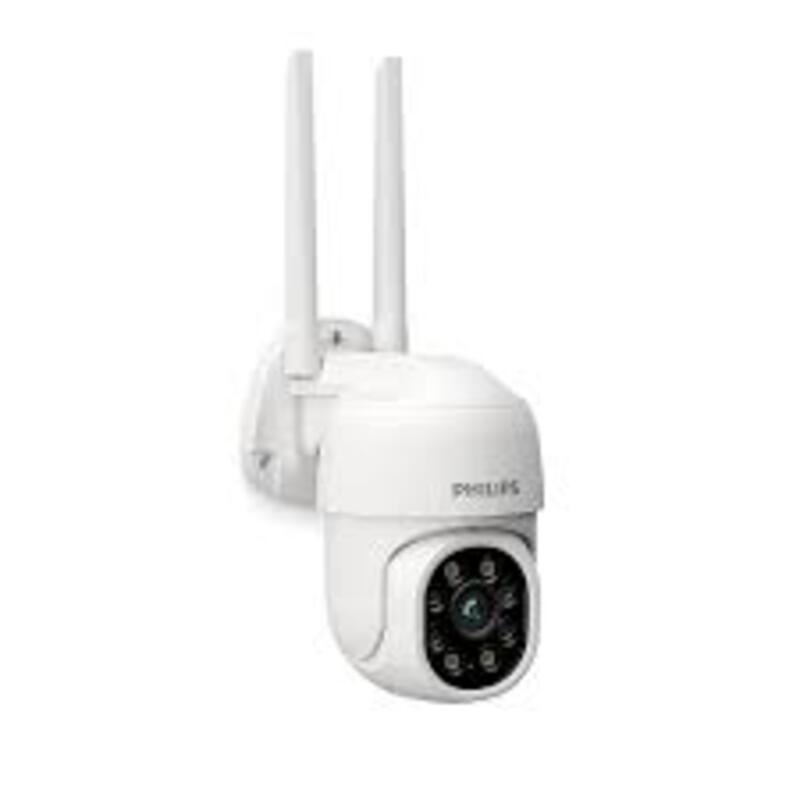ptz: (280, 301, 568, 738)
